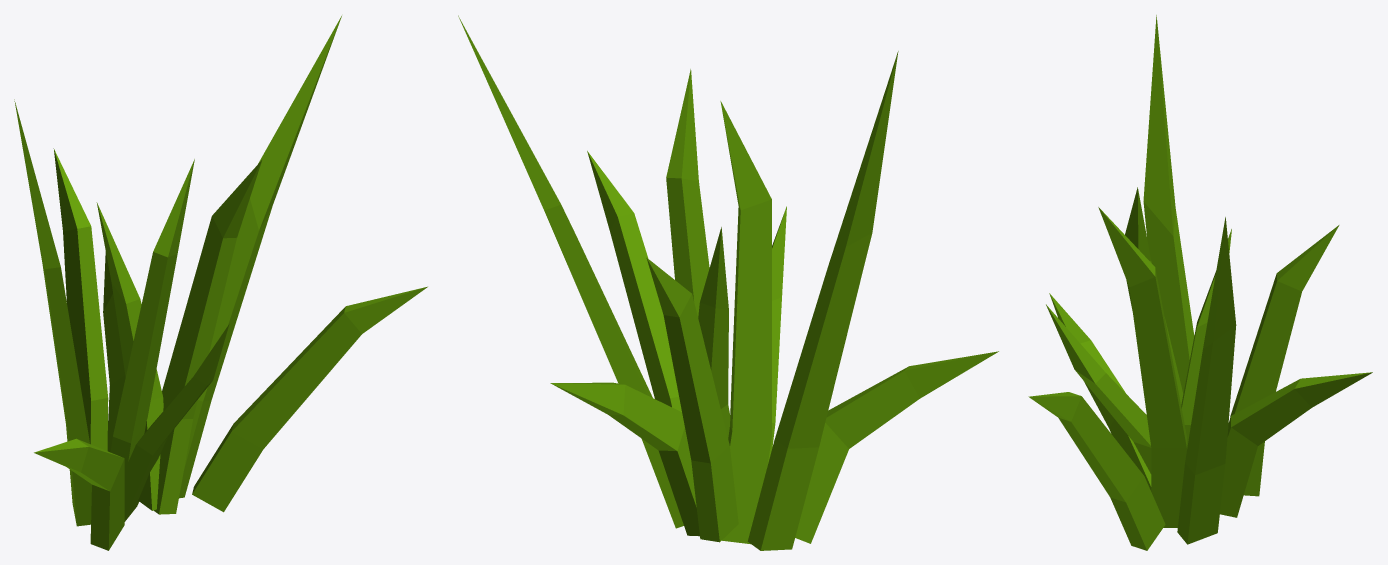
Rendered from Grass_2.fbx.
3 views of the same model, side by side, from view 1: azimuth 30°, elevation 25°; view 2: azimuth 150°, elevation 25°; view 3: azimuth 270°, elevation 25° (orthographic). The views are drawn at different scales.
Visible parts, largest first — view 1: Grass; view 2: Grass; view 3: Grass.
Boxes of the visible parts, x1,y1,x2,y2 form: Grass: (14,16,427,550); Grass: (458,15,998,550); Grass: (1028,15,1372,550).
Size of the model in its own units: 2.89 by 3.24 by 2.23.
